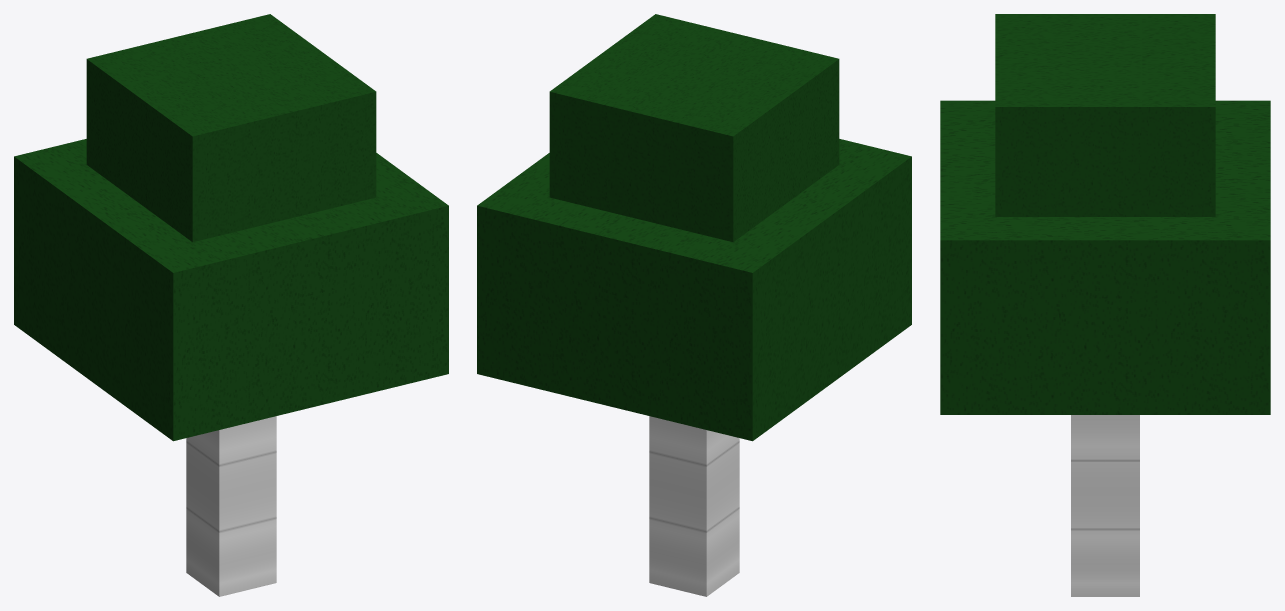
The model's file is arvore-blocos.glb.
3 views of the same model, side by side, from view 1: azimuth 30°, elevation 25°; view 2: azimuth 150°, elevation 25°; view 3: azimuth 270°, elevation 25° (orthographic). The views are drawn at different scales.
Parts seen in each view (by area): view 1: copa1, copa2, tronco; view 2: copa1, copa2, tronco; view 3: copa1, copa2, tronco.
Part boxes in pixels (bbox=[...]): copa1: bbox=[14, 139, 448, 441]; copa2: bbox=[86, 14, 376, 242]; tronco: bbox=[186, 416, 276, 596]; copa1: bbox=[477, 139, 911, 441]; copa2: bbox=[549, 14, 839, 242]; tronco: bbox=[649, 416, 739, 596]; copa1: bbox=[940, 100, 1270, 414]; copa2: bbox=[995, 14, 1215, 216]; tronco: bbox=[1071, 415, 1139, 596].
Size of the model in its own units: 2.4 by 4.18 by 2.4.
2 materials, 2 textured.
